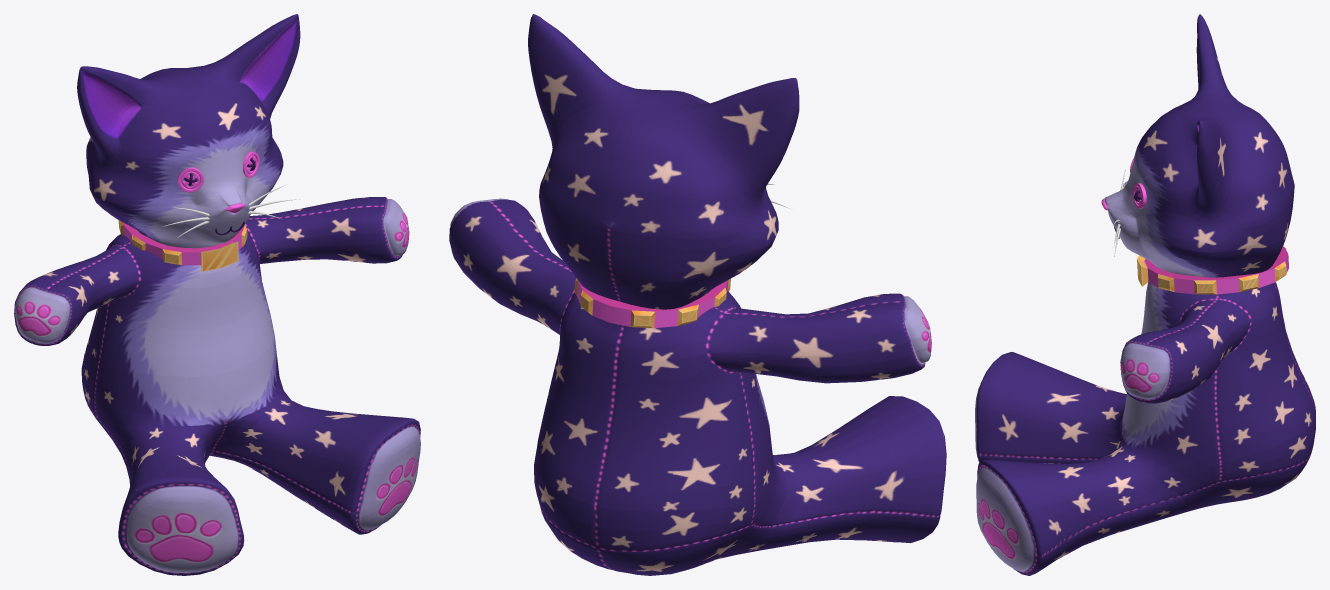
The model's file is GameReadyCat.fbx.
3 renders of one model, left to right at view 1: azimuth 30°, elevation 25°; view 2: azimuth 150°, elevation 25°; view 3: azimuth 270°, elevation 25°, orthographic. The views are drawn at different scales.
Parts seen in each view (by area): view 1: cat body; view 2: cat body; view 3: cat body.
Boxes of the visible parts, x1,y1,x2,y2 form: cat body: (14,14,420,575); cat body: (449,14,946,575); cat body: (975,14,1315,575).
Bounding box in the file's own units: 278 × 305 × 207.
6 materials, 6 textured.
